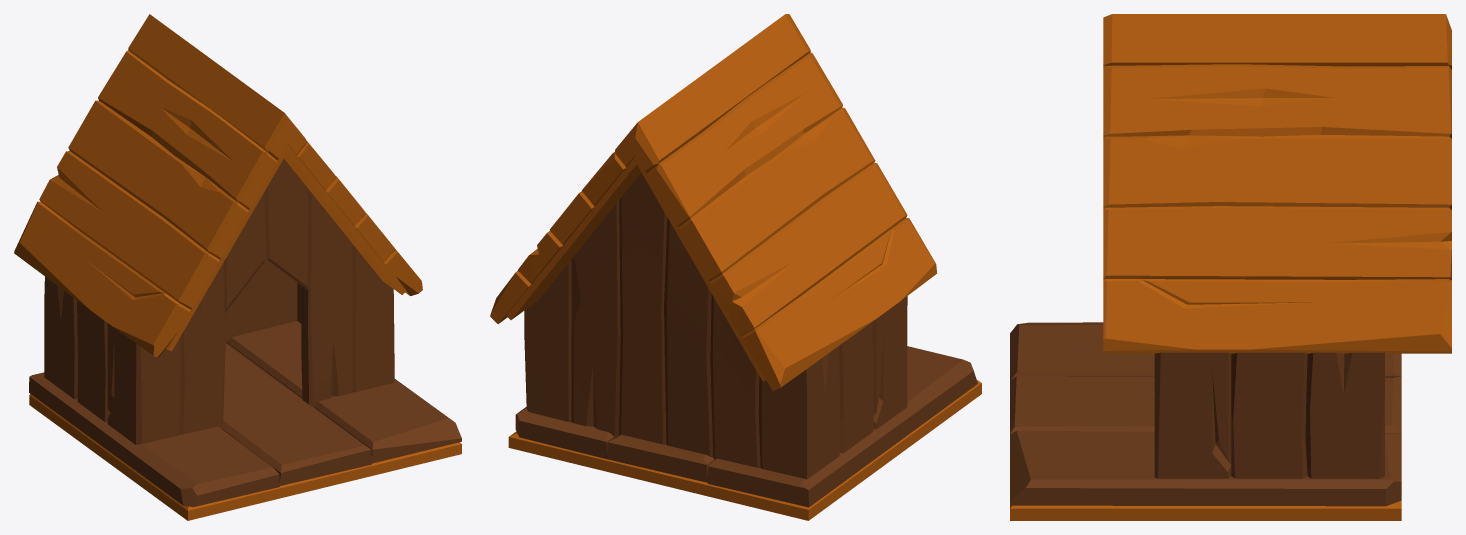
The model's file is Dog_House_2.fbx.
3 renders of one model, left to right at view 1: azimuth 30°, elevation 25°; view 2: azimuth 150°, elevation 25°; view 3: azimuth 270°, elevation 25°, orthographic. The views are drawn at different scales.
Visible parts, largest first — view 1: Dog_House_2; view 2: Dog_House_2; view 3: Dog_House_2.
Boxes of the visible parts, left/top/right/bottom form: Dog_House_2: left=14, top=14, right=461, bottom=520; Dog_House_2: left=490, top=14, right=981, bottom=520; Dog_House_2: left=1010, top=14, right=1451, bottom=520.
Size of the model in its own units: 34.55 by 41.04 by 38.65.
